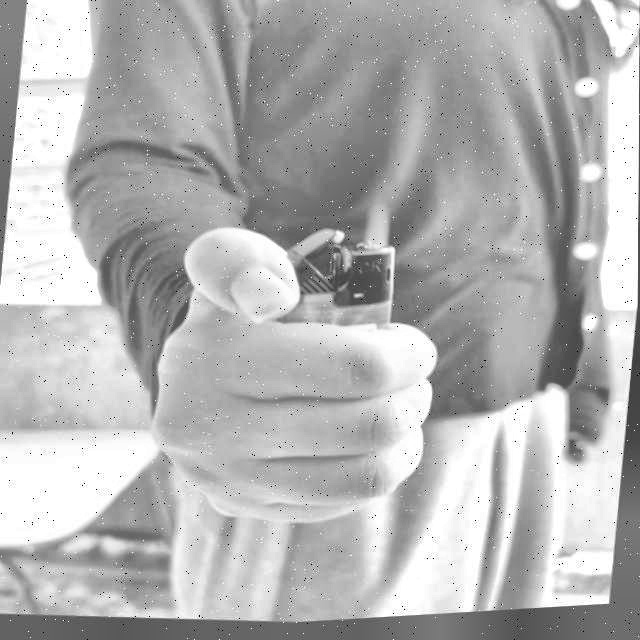Fire: (358, 207, 389, 256)
